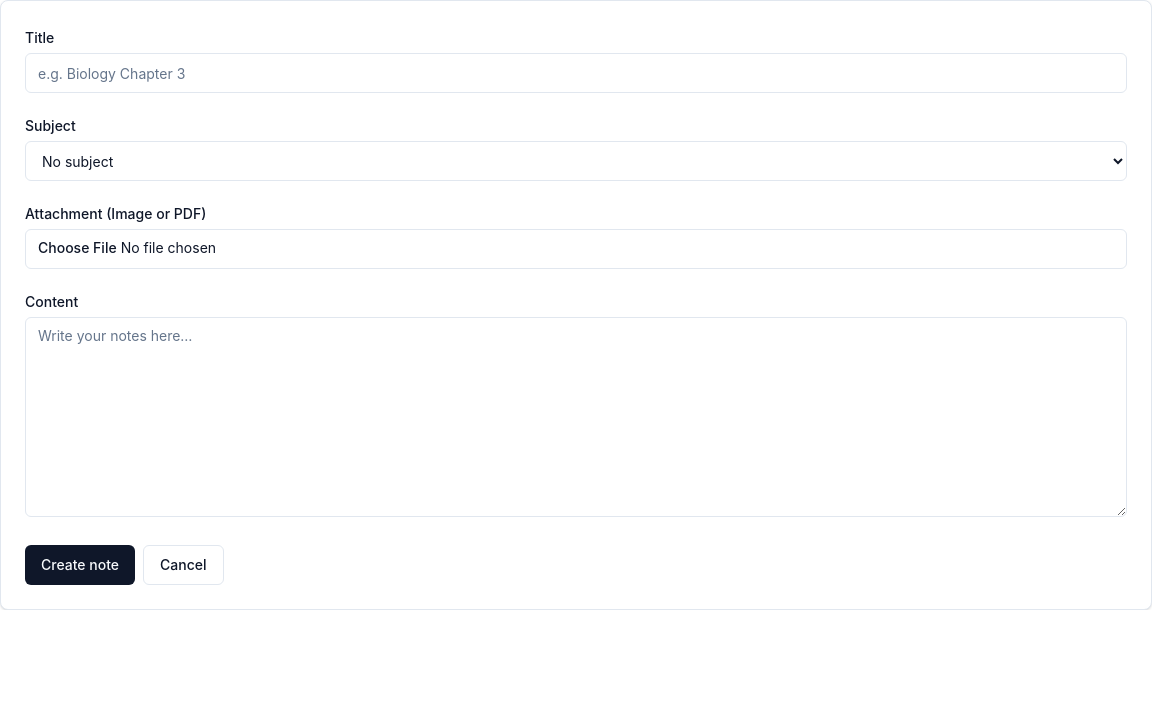
it: NoteForm › shows validation errors when submitting empty form
The image size is (1152, 720).
Click the button "Create note" at (80,565), box [25,545,135,585]
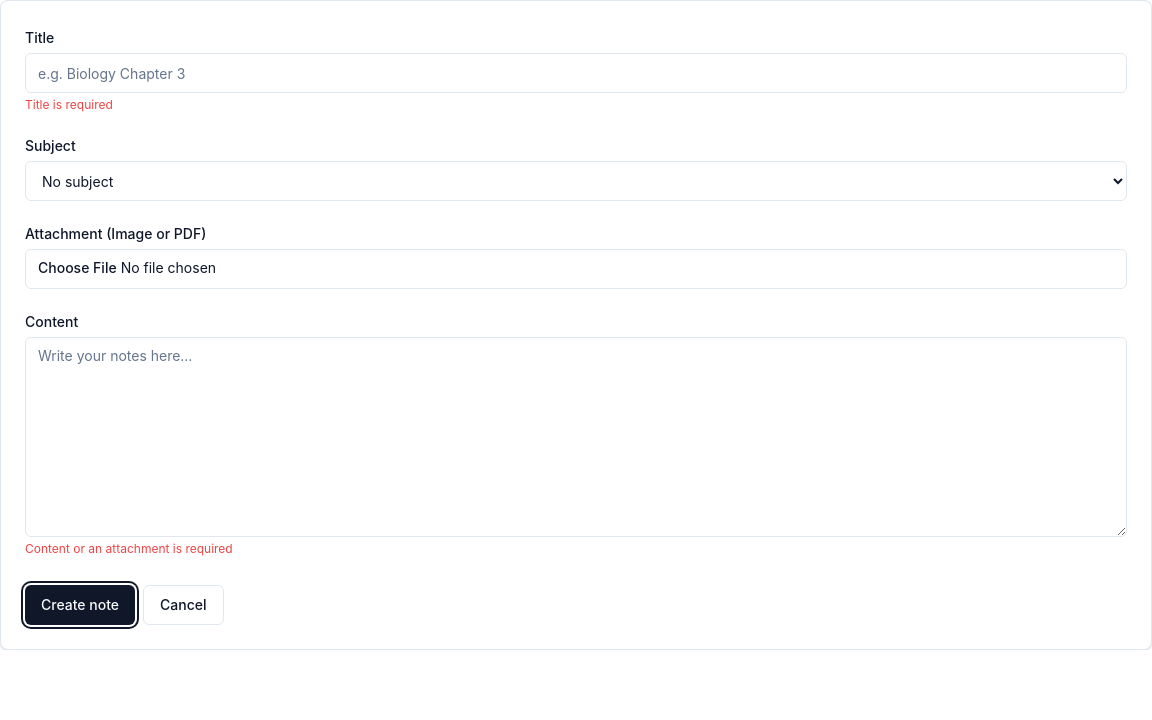
Result: the text "Title is required" is shown at [25,97,113,112]
Result: the text "Content or an attachment is required" is shown at [25,541,233,556]
